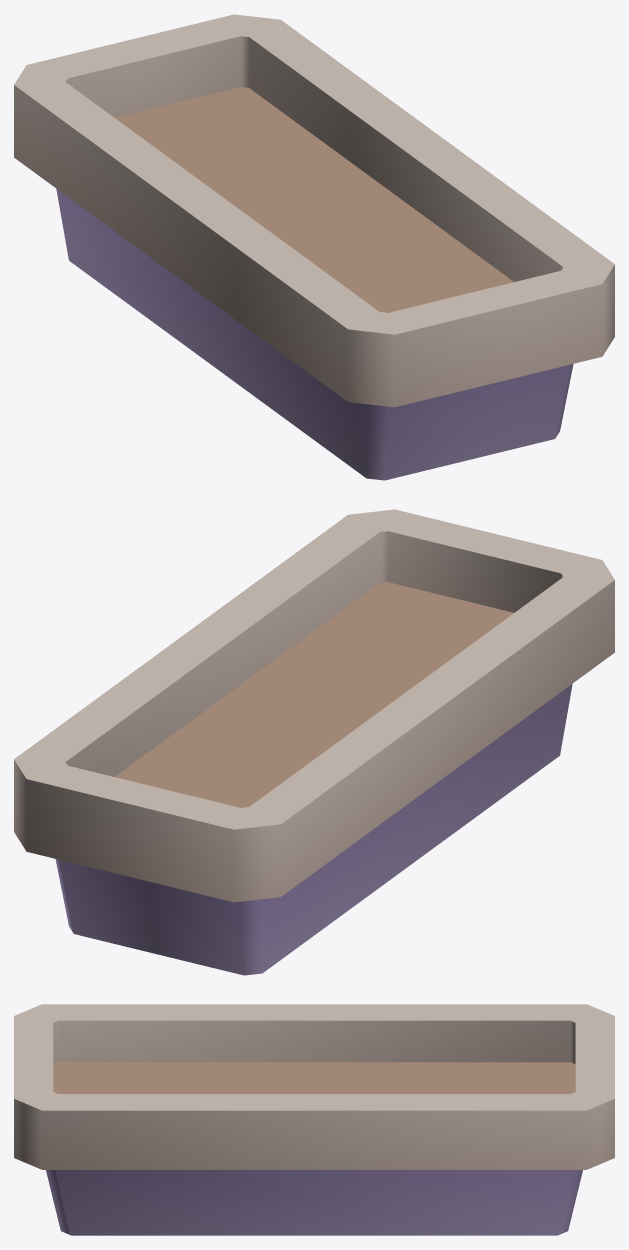
The model's file is planter-large.glb.
The picture shows the model from 3 angles, top to bottom: view 1: azimuth 30°, elevation 25°; view 2: azimuth 150°, elevation 25°; view 3: azimuth 270°, elevation 25°; orthographic projection. The views are drawn at different scales.
Parts seen in each view (by area): view 1: planter-large; view 2: planter-large; view 3: planter-large.
Part boxes in pixels (x1,y1,x2,y2): planter-large: [14, 14, 614, 480]; planter-large: [14, 509, 614, 975]; planter-large: [14, 1004, 614, 1235].
Size of the model in its own units: 0.299 by 0.1834 by 0.7146.
